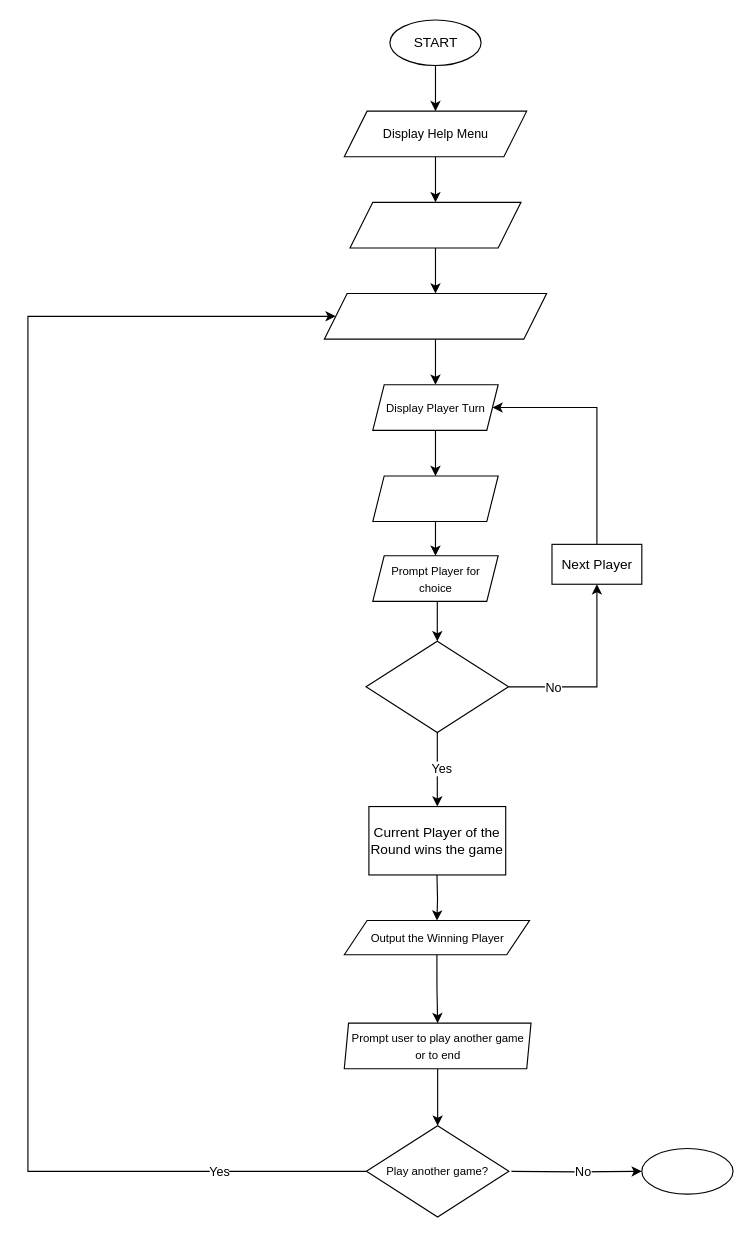
Image size: 754x1237. Some labels were removed from this diagram. Here are the shapes that lost their labels. From the top down, the box of each, then its label:
(349, 201, 521, 248): Press Enter to continue
(323, 292, 547, 339): Display Which Player Start First
(372, 475, 498, 522): Display Board
(365, 640, 509, 732): Is there 3 in a row?
(641, 1147, 733, 1194): END
